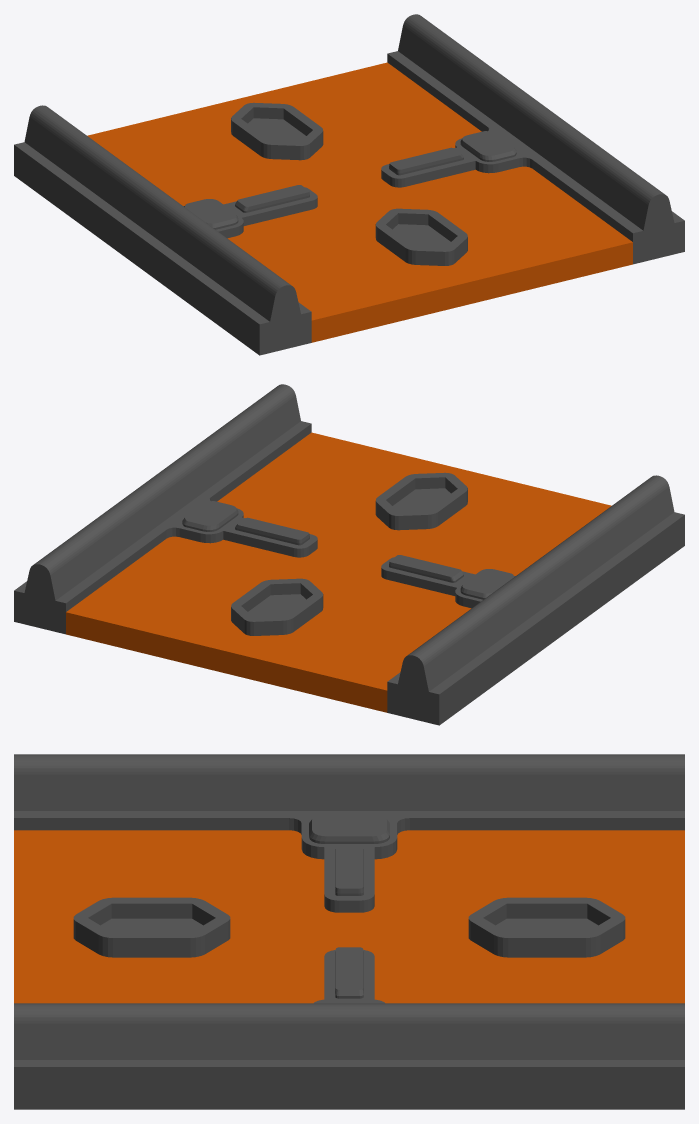
File: Rail.fbx
3 renders of one model, top to bottom at view 1: azimuth 30°, elevation 25°; view 2: azimuth 150°, elevation 25°; view 3: azimuth 270°, elevation 25°, orthographic. The views are drawn at different scales.
Visible parts, largest first — view 1: Rail; view 2: Rail; view 3: Rail.
Boxes of the visible parts, x1,y1,x2,y2 form: Rail: [14, 14, 684, 355]; Rail: [14, 384, 684, 725]; Rail: [14, 754, 684, 1109].
Size of the model in its own units: 1 by 0.143 by 1.
